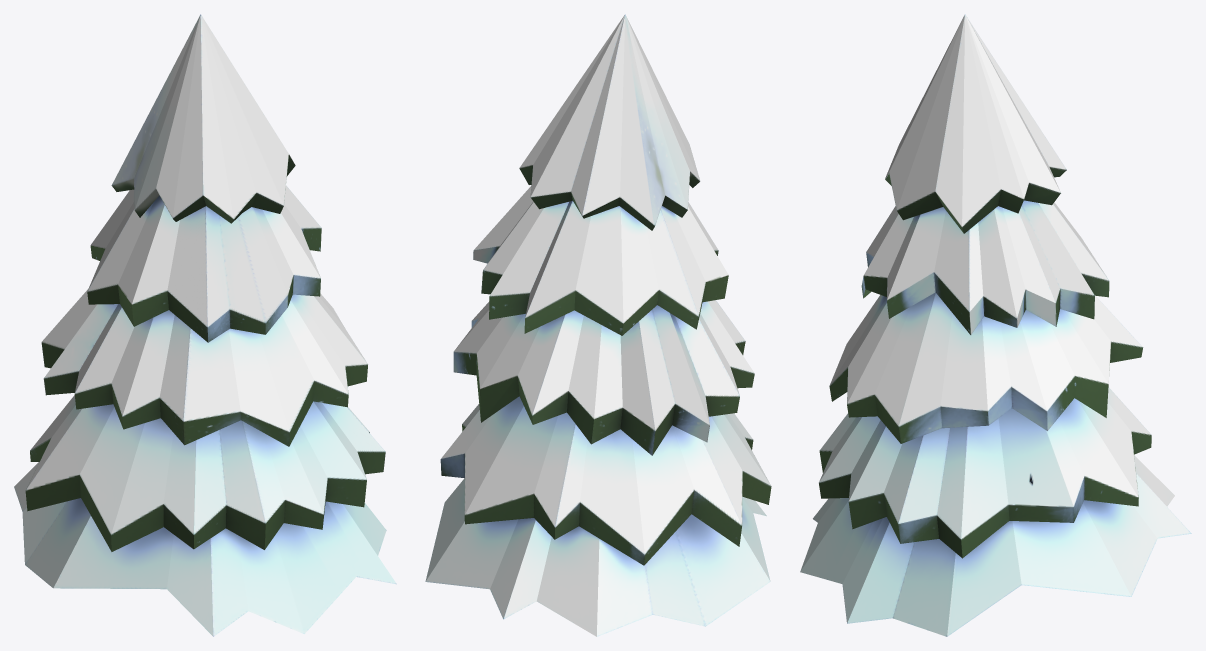
The model's file is dense-pine-tree.fbx.
3 views of the same model, side by side, from view 1: azimuth 30°, elevation 25°; view 2: azimuth 150°, elevation 25°; view 3: azimuth 270°, elevation 25° (orthographic). The views are drawn at different scales.
Visible parts, largest first — view 1: mdl_tree_pine_dense; view 2: mdl_tree_pine_dense; view 3: mdl_tree_pine_dense.
Part boxes in pixels (x1,y1,x2,y2): mdl_tree_pine_dense: (14,14,396,636); mdl_tree_pine_dense: (425,14,771,636); mdl_tree_pine_dense: (800,14,1191,636).
Bounding box in the file's own units: 187 × 311 × 201.
